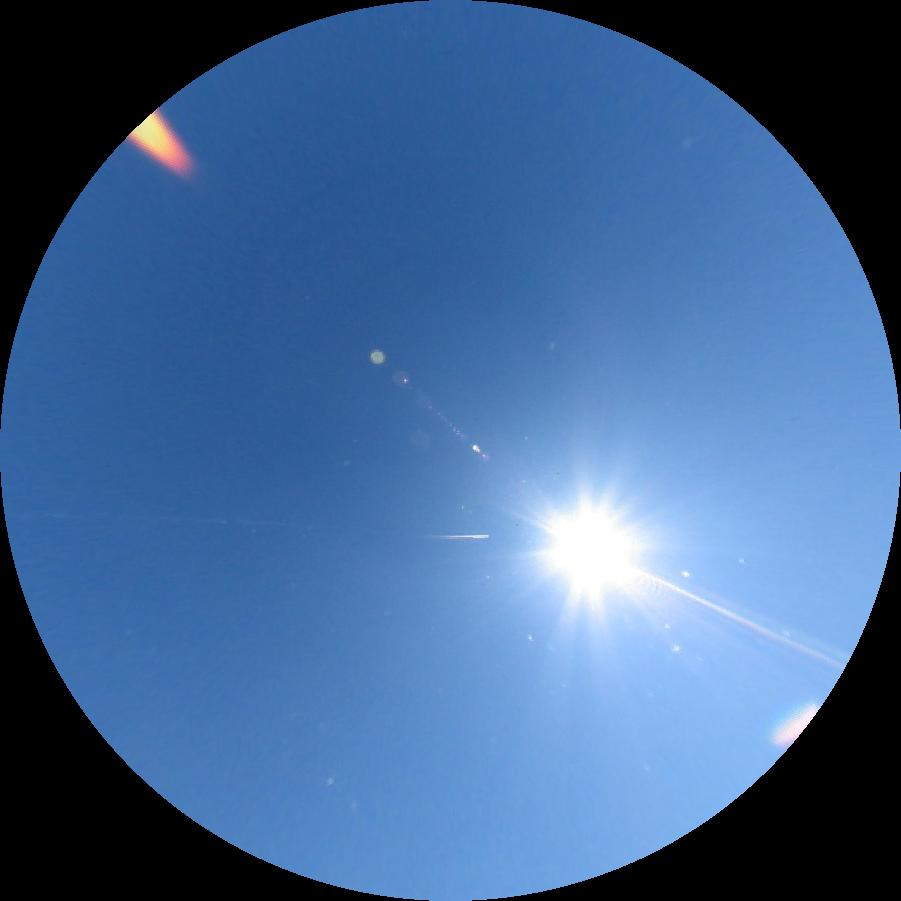contrail young: (421, 535, 490, 539)
parasite: (636, 570, 845, 670), (44, 511, 296, 526)
sun: (540, 500, 643, 600)
